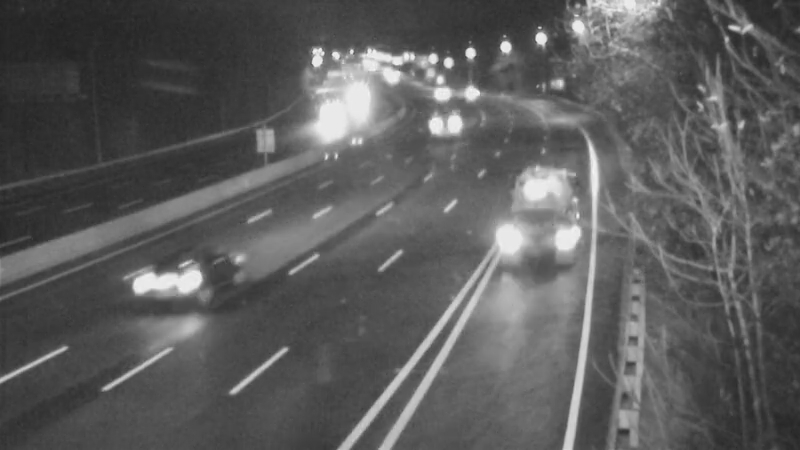vehicle: (499, 194, 579, 274), (122, 247, 202, 327), (447, 69, 497, 119), (411, 66, 461, 116), (430, 96, 480, 146)
